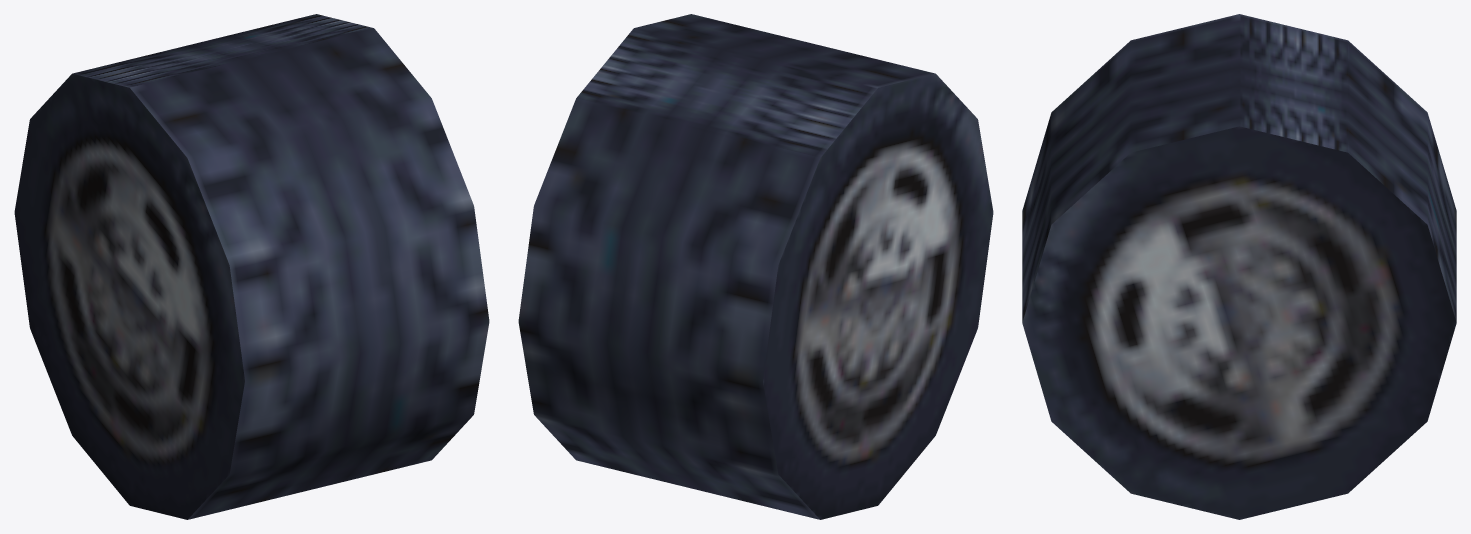
File: car_BR.FBX
3 views of the same model, side by side, from view 1: azimuth 30°, elevation 25°; view 2: azimuth 150°, elevation 25°; view 3: azimuth 270°, elevation 25° (orthographic). The views are drawn at different scales.
Visible parts, largest first — view 1: BR; view 2: BR; view 3: BR.
Part boxes in pixels (x1=…): BR: x1=14, y1=14, x2=489, y2=519; BR: x1=518, y1=14, x2=993, y2=519; BR: x1=1022, y1=14, x2=1456, y2=519.
Bounding box in the file's own units: 63.6 × 104 × 104.
1 material, 1 textured.
